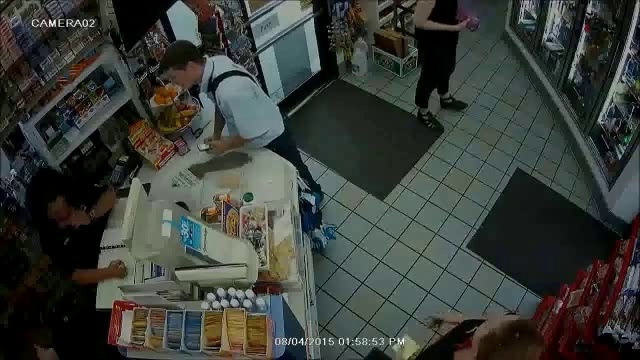normal: (160, 37, 326, 215)
